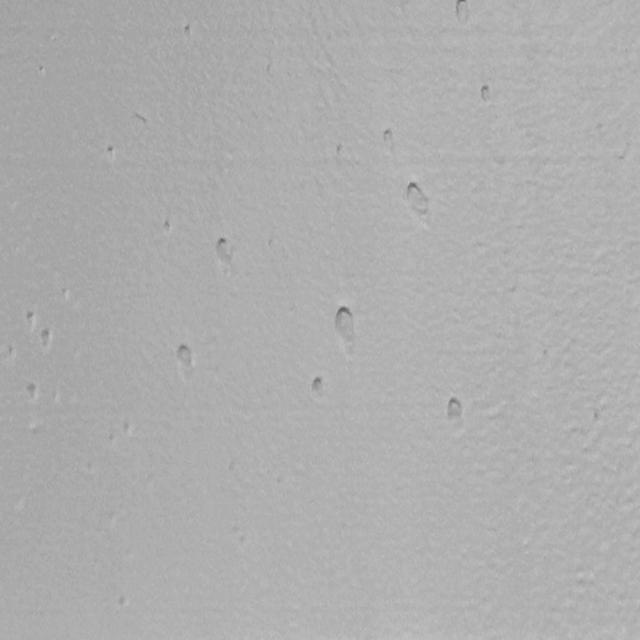pin holes: (401, 178, 437, 228), (329, 302, 360, 353), (210, 233, 234, 270), (443, 396, 468, 427), (174, 342, 198, 374), (452, 0, 476, 28), (476, 80, 497, 107), (380, 126, 400, 153), (309, 375, 330, 400), (38, 327, 58, 351), (24, 380, 42, 404), (332, 141, 350, 163), (105, 144, 122, 165), (133, 110, 152, 126), (161, 218, 176, 236), (116, 592, 131, 610), (24, 309, 38, 327), (183, 22, 197, 39), (120, 419, 134, 436), (59, 288, 72, 305), (6, 342, 18, 360), (37, 63, 49, 78)
